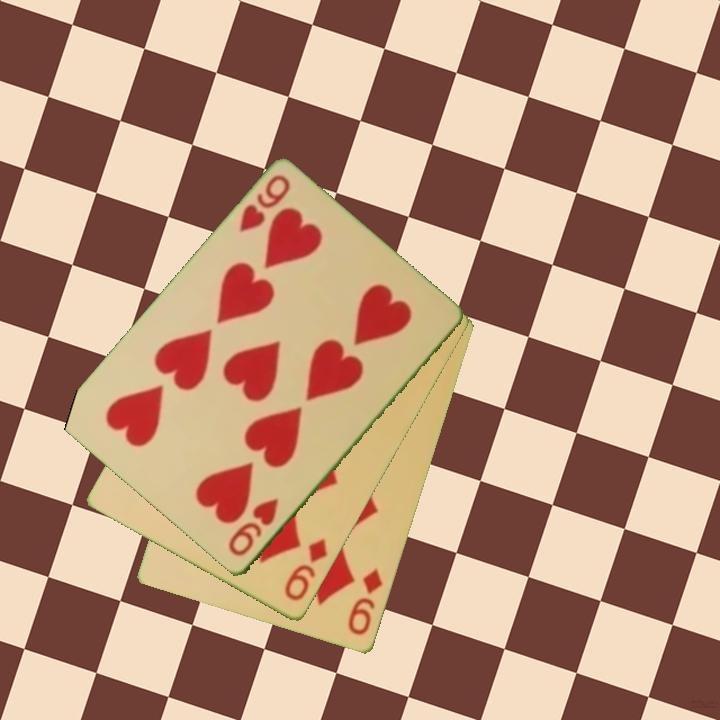9d: (280, 535, 331, 605), (344, 565, 386, 639)
9h: (235, 171, 293, 236), (224, 496, 282, 560)
